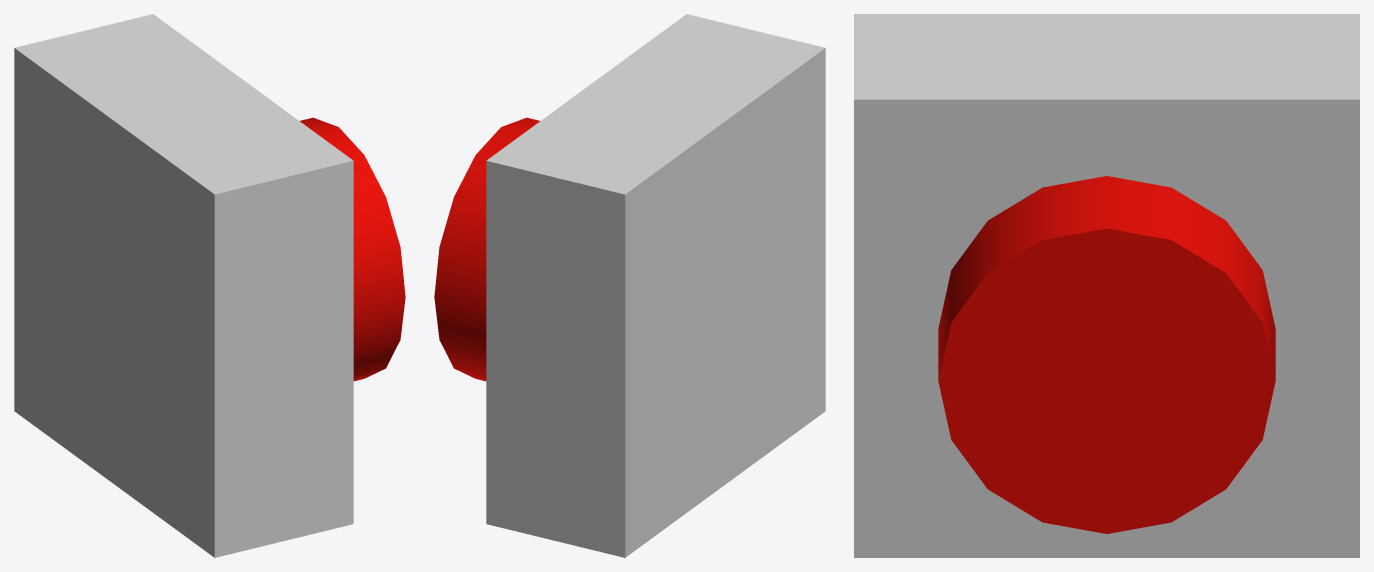
The model's file is RedButton.glb.
3 renders of one model, left to right at view 1: azimuth 30°, elevation 25°; view 2: azimuth 150°, elevation 25°; view 3: azimuth 270°, elevation 25°, orthographic. The views are drawn at different scales.
Parts seen in each view (by area): view 1: ButtonCase, Button; view 2: ButtonCase, Button; view 3: ButtonCase, Button.
Boxes of the visible parts, left/top/right/bottom form: ButtonCase: left=14, top=14, right=353, bottom=557; Button: left=300, top=117, right=405, bottom=381; ButtonCase: left=486, top=14, right=825, bottom=557; Button: left=434, top=117, right=539, bottom=381; ButtonCase: left=854, top=14, right=1359, bottom=557; Button: left=938, top=176, right=1275, bottom=533.
Size of the model in its own units: 0.1937 by 0.3 by 0.3.
